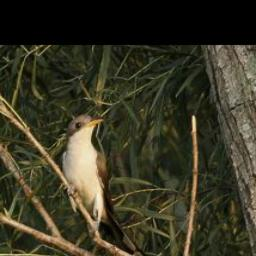Cuckoo: (59, 113, 153, 256)
